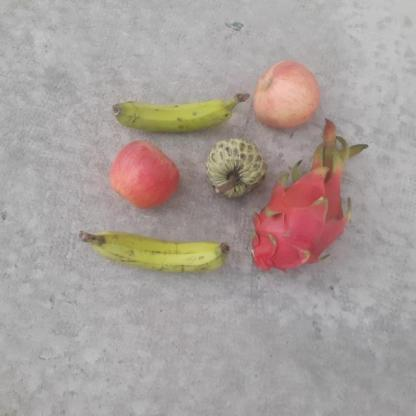annona: (202, 139, 264, 198)
apple: (104, 136, 180, 212), (246, 57, 320, 131)
banana: (92, 223, 232, 276), (108, 94, 240, 134)
pitaya: (247, 167, 352, 274)
